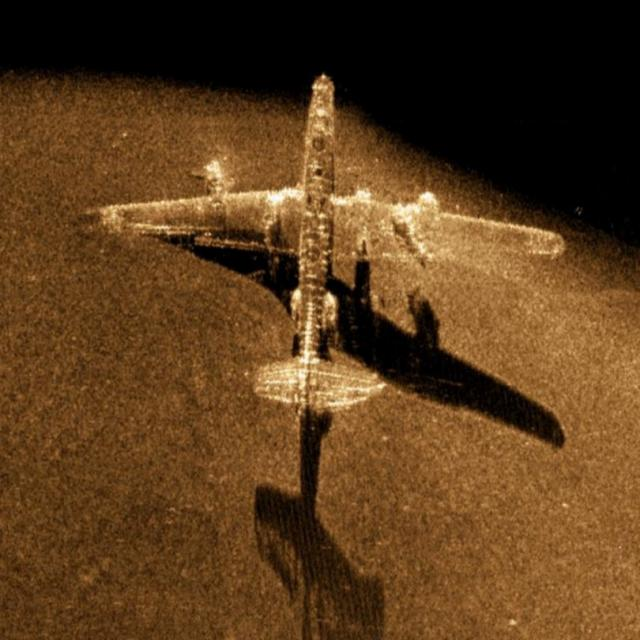plane: (78, 62, 572, 426)
